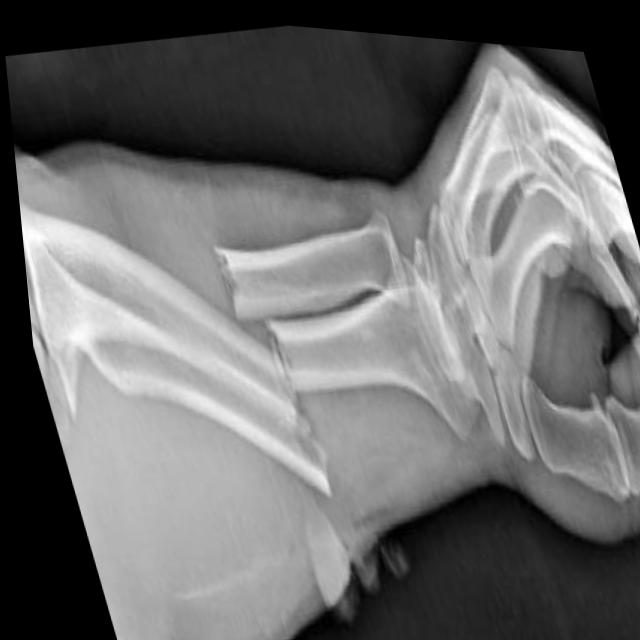fracture: (197, 211, 335, 516)
